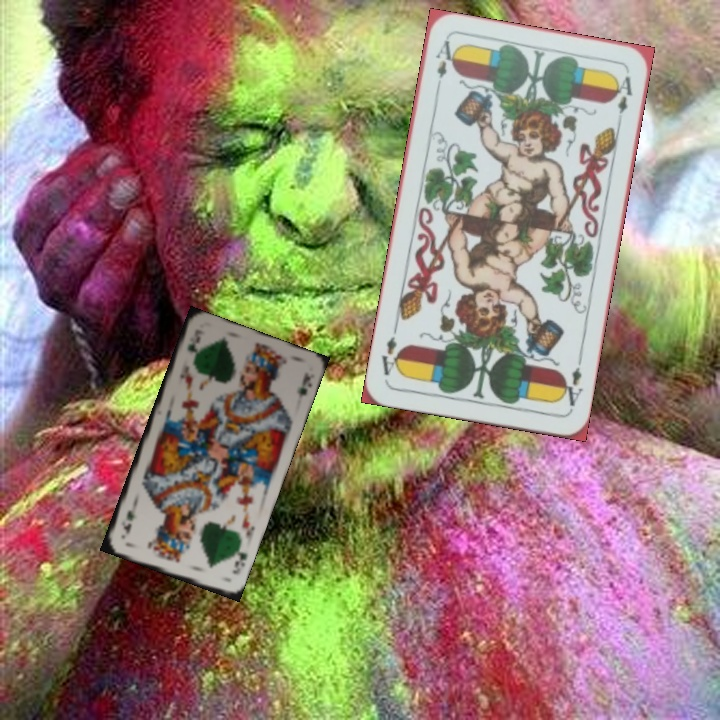EA: (557, 354, 585, 409), (431, 36, 457, 95)
GK: (228, 541, 250, 577), (183, 331, 203, 355)
